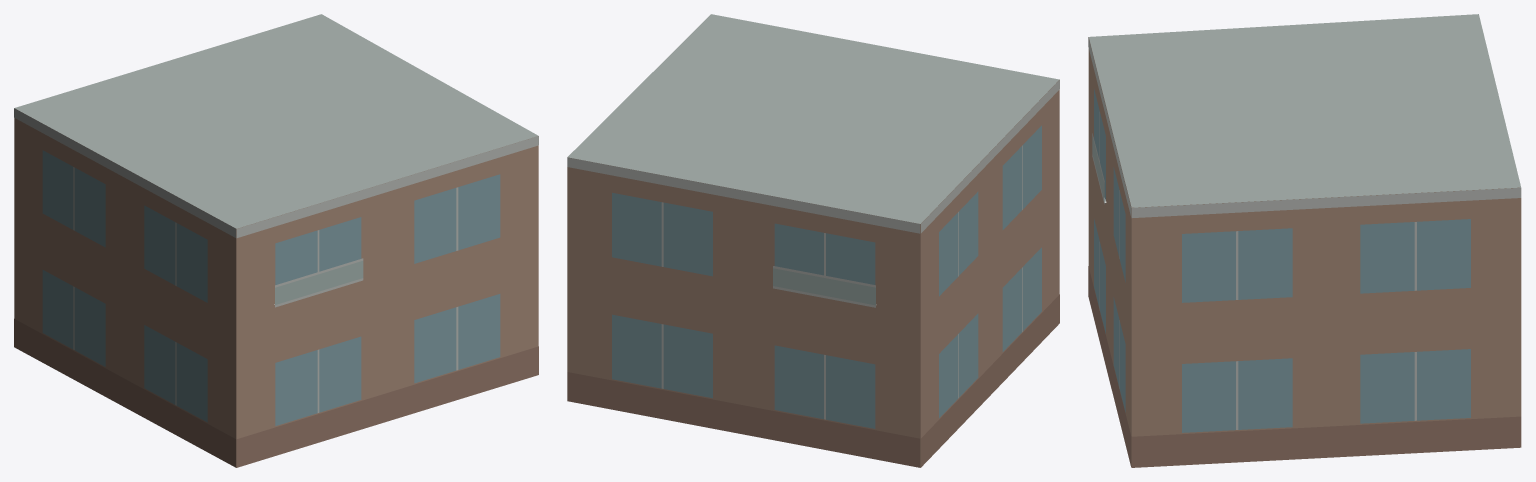
File: survey-upis-32620003.glb
3 renders of one model, left to right at view 1: azimuth 30°, elevation 25°; view 2: azimuth 150°, elevation 25°; view 3: azimuth 270°, elevation 25°, orthographic. The views are drawn at different scales.
Visible parts, largest first — view 1: survey-upis-32620003.tmp; view 2: survey-upis-32620003.tmp; view 3: survey-upis-32620003.tmp.
Boxes of the visible parts, <box> form: survey-upis-32620003.tmp: <box>14,14,538,467</box>; survey-upis-32620003.tmp: <box>567,14,1059,467</box>; survey-upis-32620003.tmp: <box>1088,14,1521,467</box>.
Bounding box in the file's own units: 9.76 × 6.1 × 9.21.
